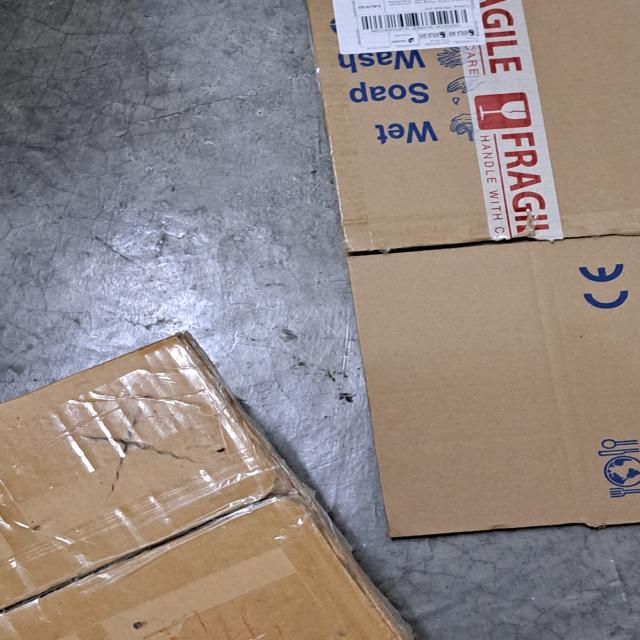cardboard: (308, 0, 640, 536), (0, 337, 415, 640)
